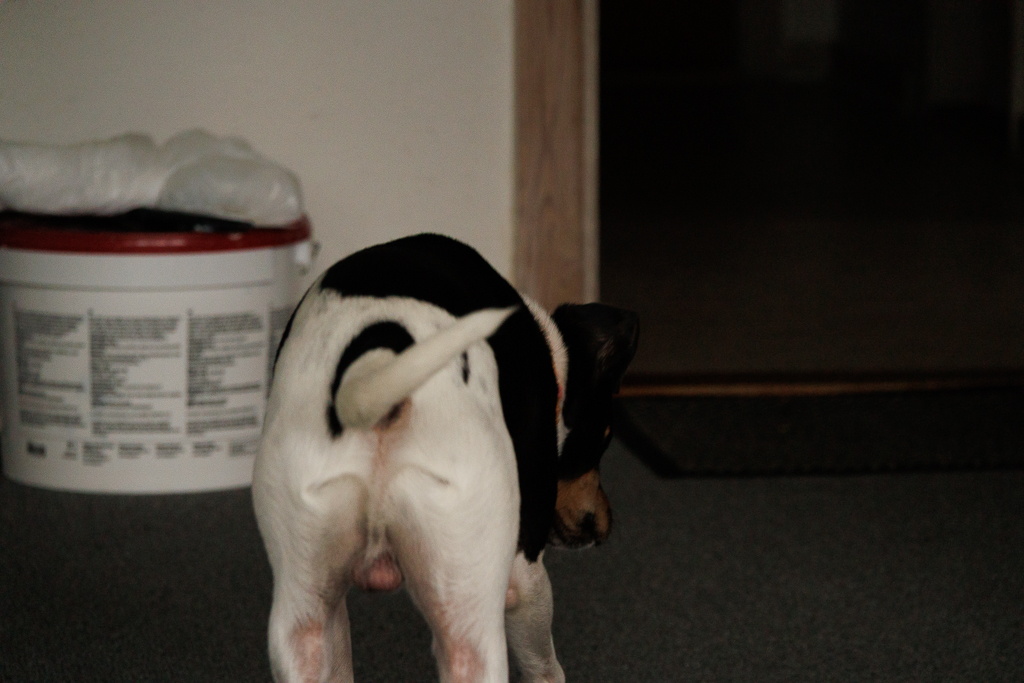Dog: (246, 223, 655, 683)
